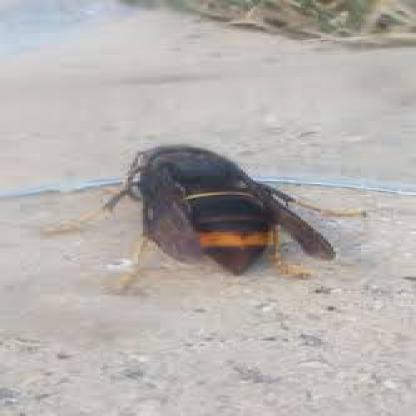asian: (70, 124, 320, 294)
